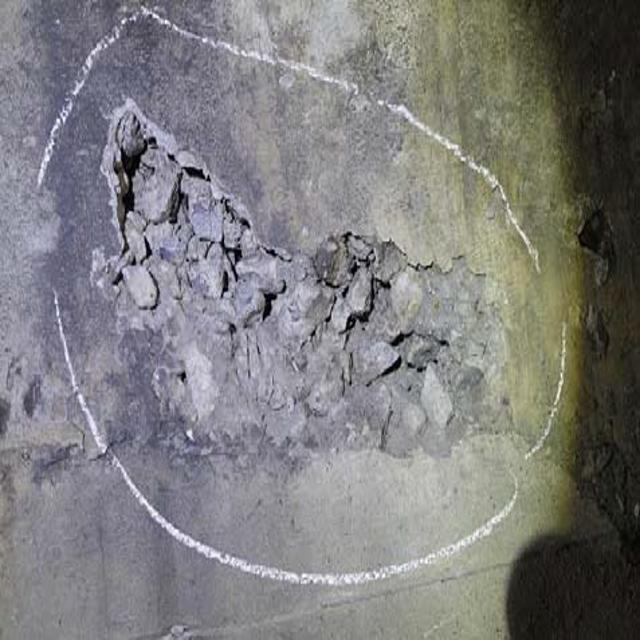spalling: (83, 89, 520, 478)
